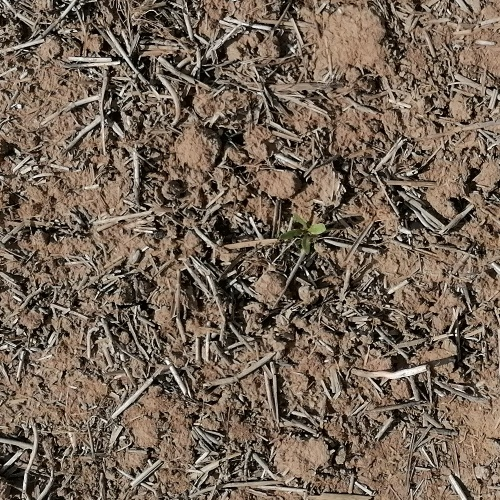beet: (280, 211, 327, 251)
